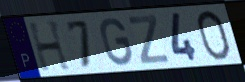4: (170, 11, 200, 64)
7: (64, 18, 95, 69)
G: (99, 16, 134, 68)
H: (26, 19, 74, 74)
O: (195, 9, 232, 62)
Z: (127, 14, 171, 66)
